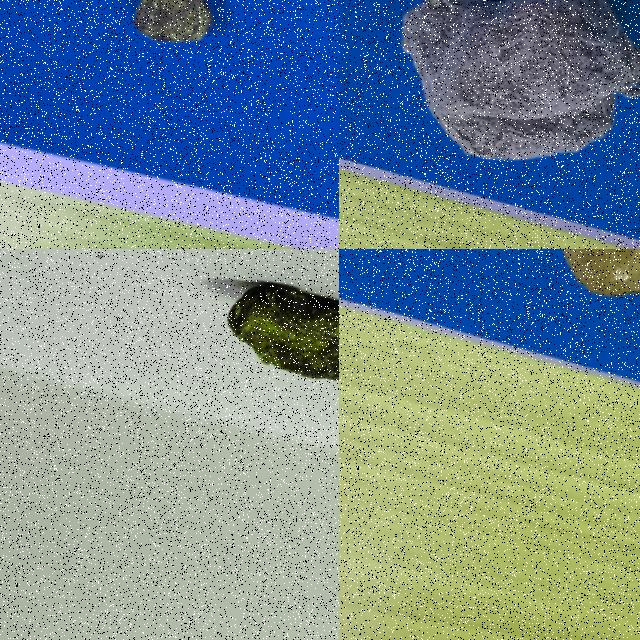Agglomerated_cocoabeans: (339, 0, 639, 240)
Flat_cocoabeans: (145, 249, 338, 437), (45, 0, 338, 99)
